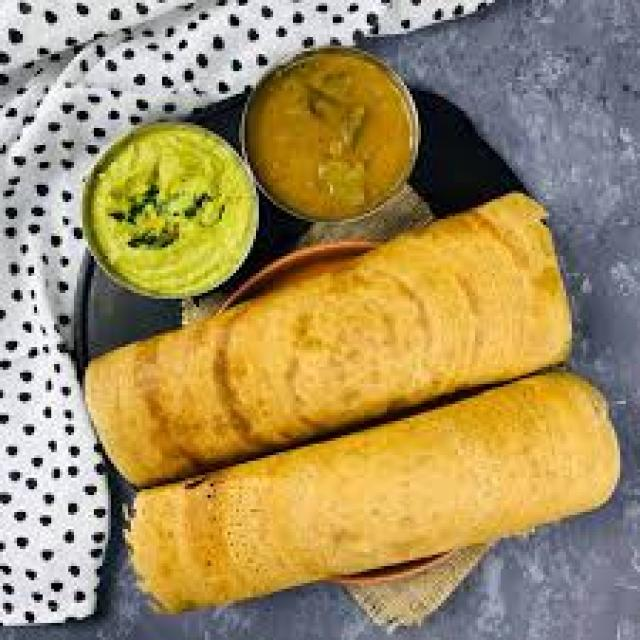DOSA: (76, 186, 574, 493), (132, 368, 624, 622)
